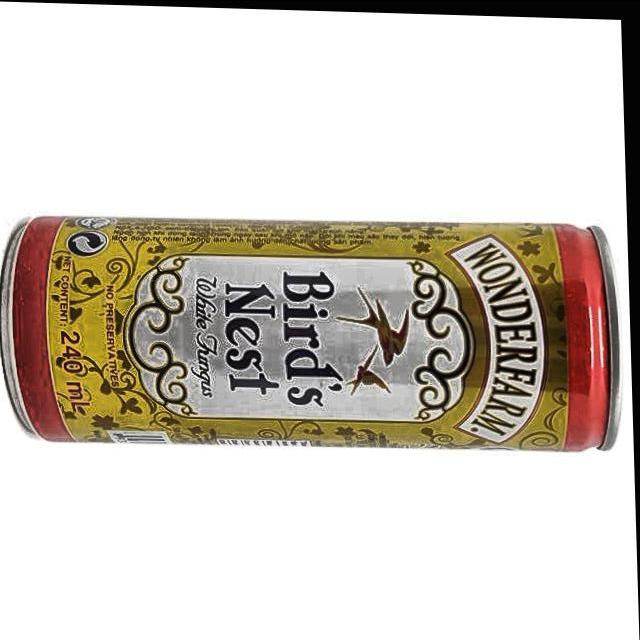litter: (0, 198, 636, 466)
